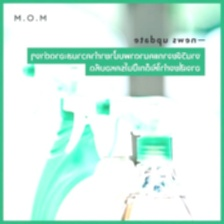cleaning_solution: (15, 57, 119, 224), (90, 92, 203, 224), (57, 90, 151, 224)
